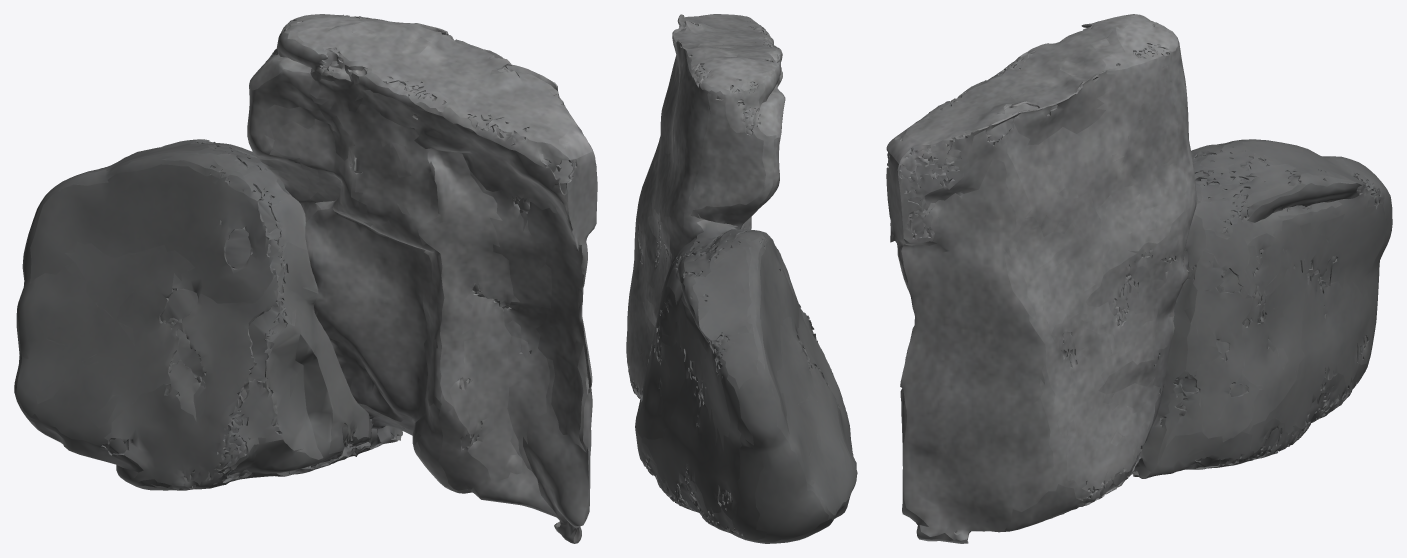
3 views of the same model, side by side, from view 1: azimuth 30°, elevation 25°; view 2: azimuth 150°, elevation 25°; view 3: azimuth 270°, elevation 25° (orthographic). The views are drawn at different scales.
Parts seen in each view (by area): view 1: world; view 2: world; view 3: world.
Boxes of the visible parts, left/top/right/bottom form: world: left=14, top=14, right=597, bottom=543; world: left=626, top=14, right=857, bottom=543; world: left=886, top=14, right=1392, bottom=543.
Bounding box in the file's own units: 0.8 × 0.963 × 0.9785.
1 material, 1 textured.
